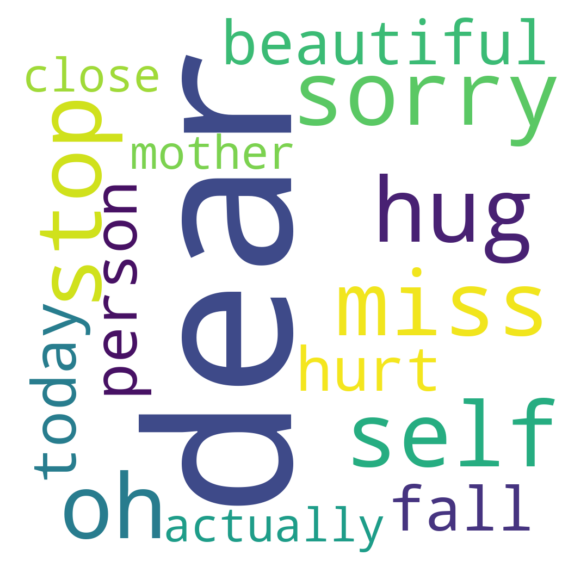

Layout of this report page (visuals, bound fields, positions):
{"tool":"tableau","page":{"name":"Dashboard 1","canvas":[1000,800],"ordinal":0},"visuals":[{"type":"worksheet","title":"Topics","mark":"Automatic","box":[74,14,886,777]},{"type":"worksheet","title":"Topics","mark":"Automatic","param":"[federated.0f70d2m07pqro519ml5wd1i6v16a].[none:type:nk]","box":[10,18,72,40]}]}

Visuals, with their boxes on the page's 1000x800 design canvas (x1, y1, x2, y2). These are canvas units, not pixel positions in the 579x579 screenshot, which may show the page scaled, cropped or inside an application window:
"Topics" worksheet: [74, 14, 960, 791]
"Topics" worksheet: [10, 18, 82, 58]
